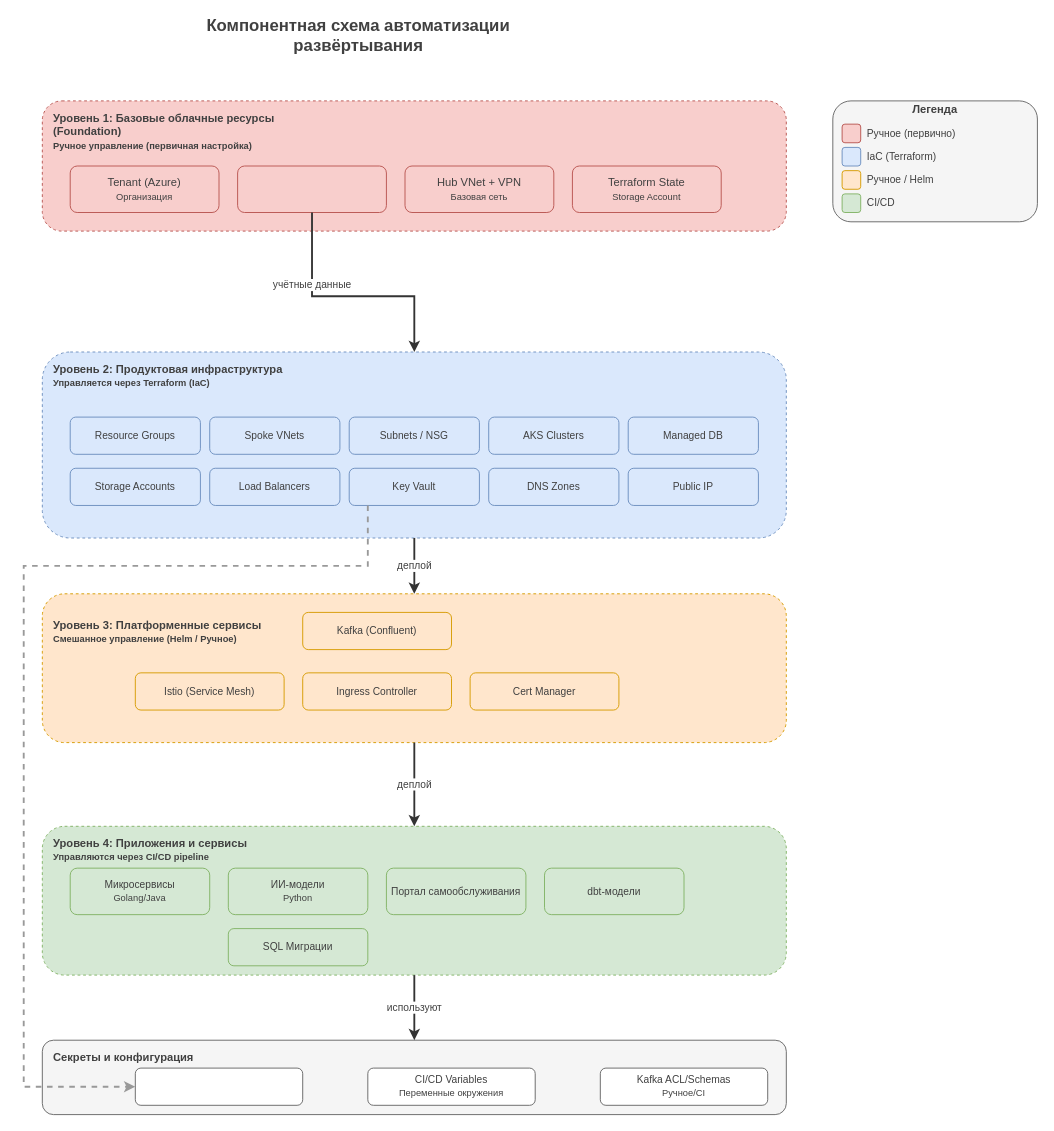
The diagram is 1054 pixels wide and 1131 high, and some of its shapes have lost their labels. The box of each missing label's shape, as (x1, y1, x2, y2) in pixels:
Key Vault Заполняется вручную/CI: (134, 1067, 303, 1105)
Service Account Учётка для Terraform: (237, 165, 386, 213)
